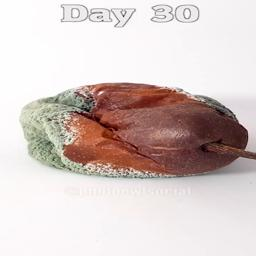Pear Rotten: (13, 75, 256, 180)
